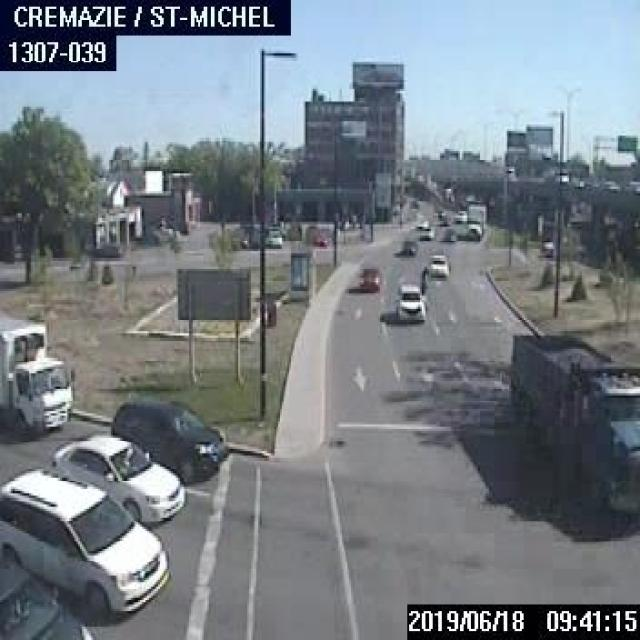vehicle: (0, 465, 167, 621), (507, 329, 638, 524), (50, 433, 184, 524), (110, 397, 226, 484), (0, 314, 73, 436), (0, 546, 93, 638), (392, 282, 426, 320), (539, 234, 586, 257), (465, 202, 485, 240), (426, 252, 448, 276), (358, 267, 380, 289), (398, 236, 417, 253), (261, 229, 281, 245), (438, 226, 455, 240), (418, 224, 433, 237), (452, 208, 465, 221), (438, 212, 451, 223)
